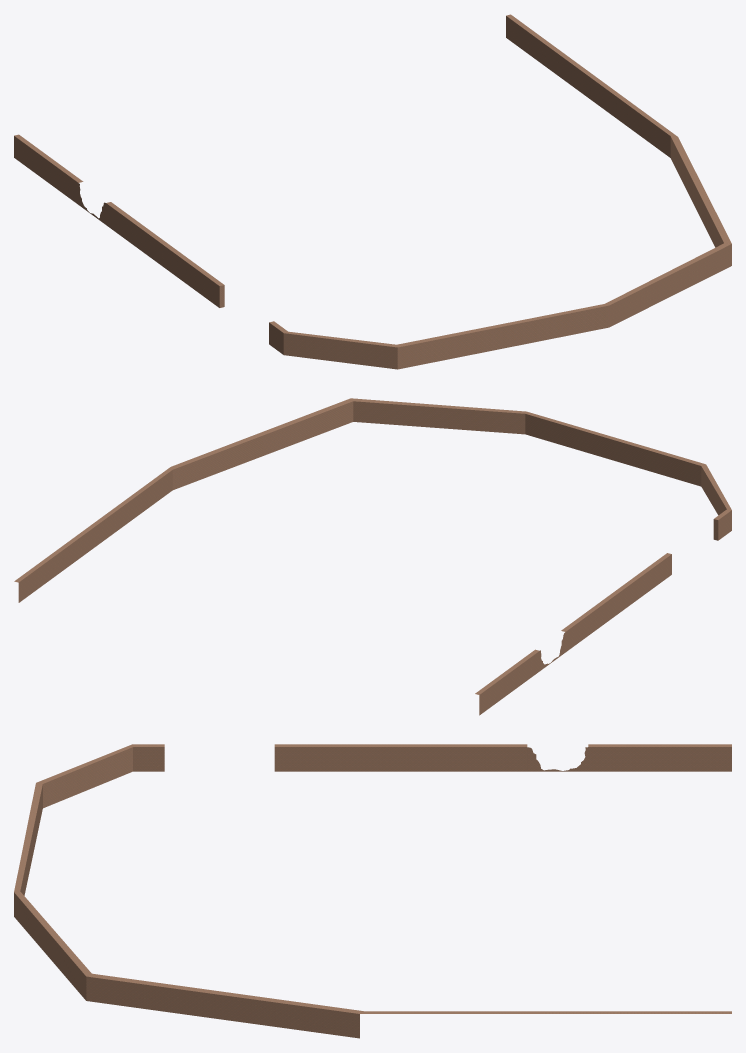
File: kd_connection_world-inner_surface_21_5.glb
3 views of the same model, one above another, from view 1: azimuth 30°, elevation 25°; view 2: azimuth 150°, elevation 25°; view 3: azimuth 270°, elevation 25° (orthographic). The views are drawn at different scales.
Parts seen in each view (by area): view 1: kd_connection_world-inner_surface_21_5; view 2: kd_connection_world-inner_surface_21_5; view 3: kd_connection_world-inner_surface_21_5.
Boxes of the visible parts, x1,y1,x2,y2 form: kd_connection_world-inner_surface_21_5: (14,14,731,369); kd_connection_world-inner_surface_21_5: (14,398,731,715); kd_connection_world-inner_surface_21_5: (14,744,731,1038).
Bounding box in the file's own units: 62.38 × 2.64 × 70.21.
Materials: 1 (1 with a texture image).
